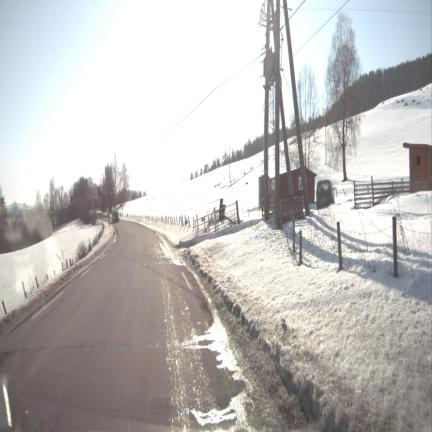Road: (0, 222, 245, 430)
